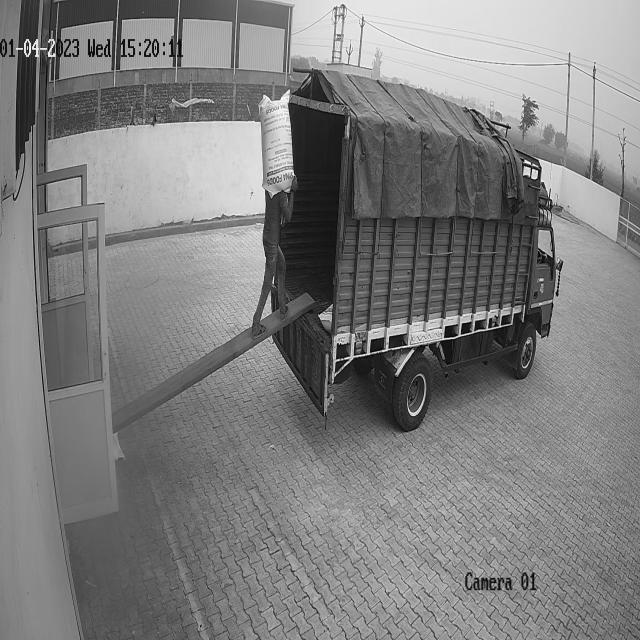sack: (258, 88, 294, 198)
